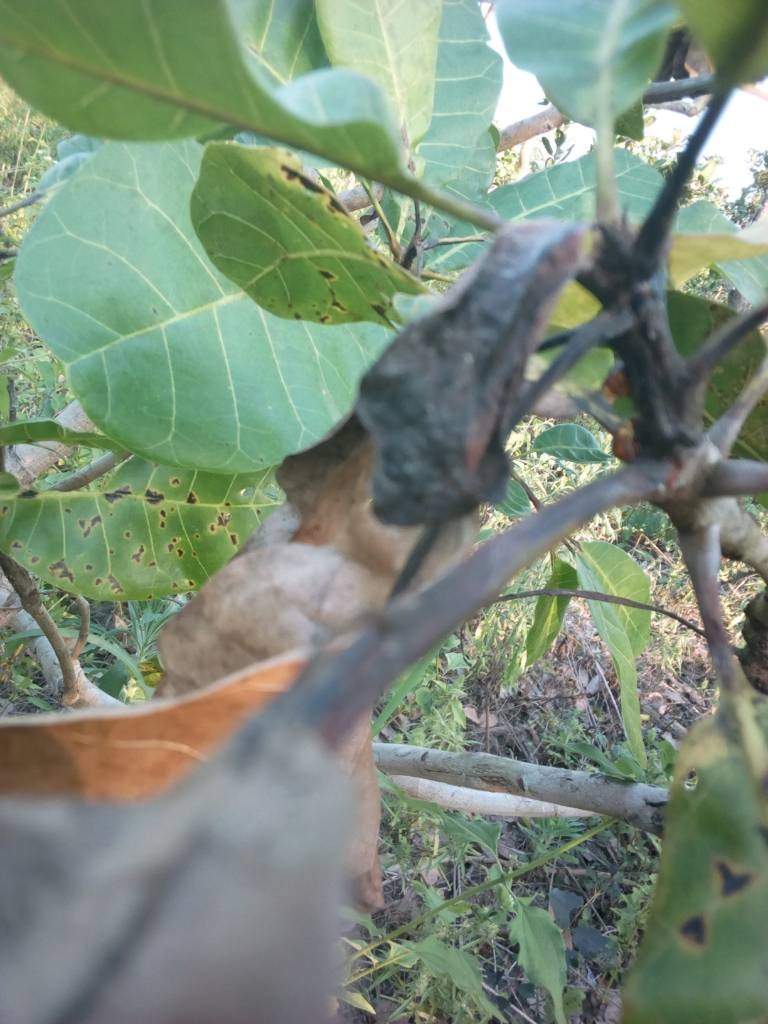Dessèchement des bourgeons: (583, 241, 724, 450)
